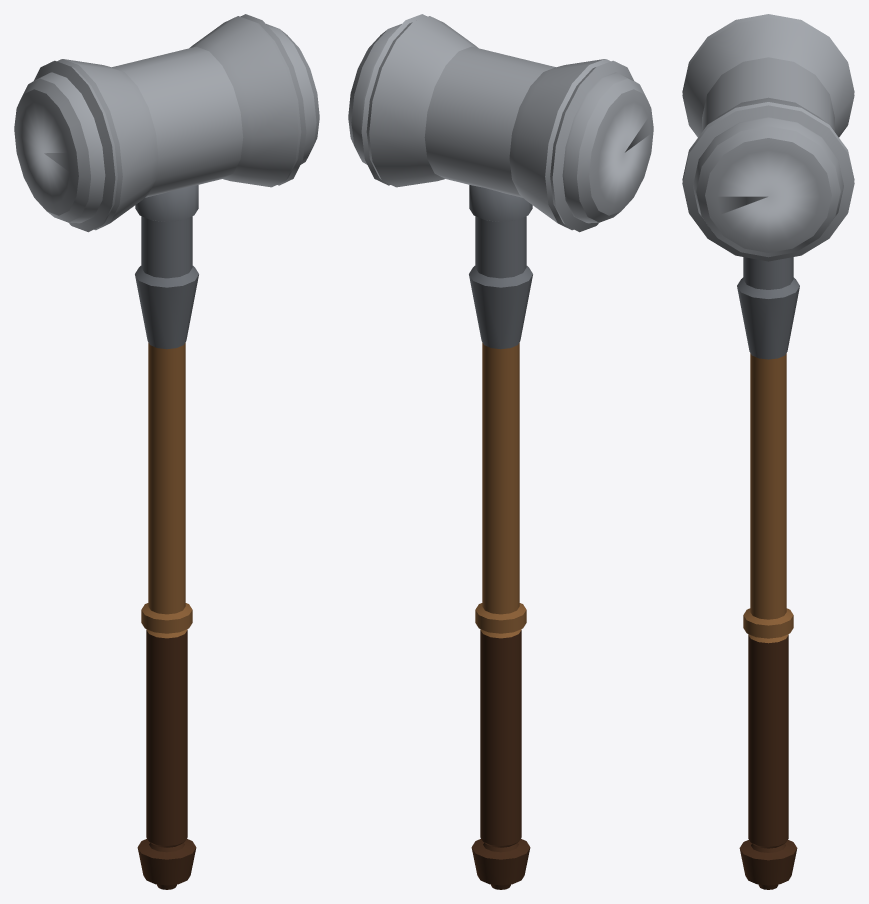
Rendered from kladivo.glb.
3 views of the same model, side by side, from view 1: azimuth 30°, elevation 25°; view 2: azimuth 150°, elevation 25°; view 3: azimuth 270°, elevation 25° (orthographic).
Parts seen in each view (by area): view 1: kladivo; view 2: kladivo; view 3: kladivo.
Part boxes in pixels (<box>): kladivo: <box>14,14,319,889</box>; kladivo: <box>348,14,653,889</box>; kladivo: <box>682,14,854,889</box>.
Size of the model in its own units: 0.3478 by 1.14 by 0.2146.
